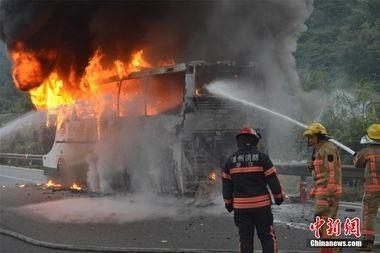fire: (7, 43, 163, 114), (40, 173, 85, 192)
